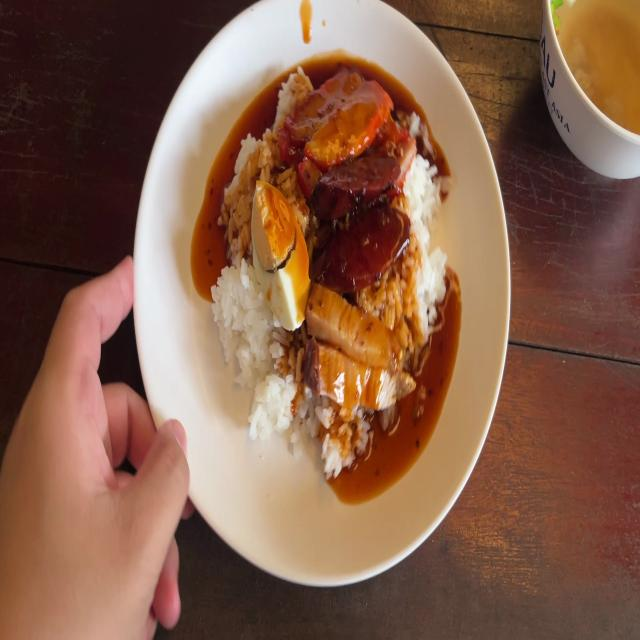red_pork_and_crispy_pork: (252, 182, 309, 326)
stir_fried_basil: (313, 158, 402, 280)
